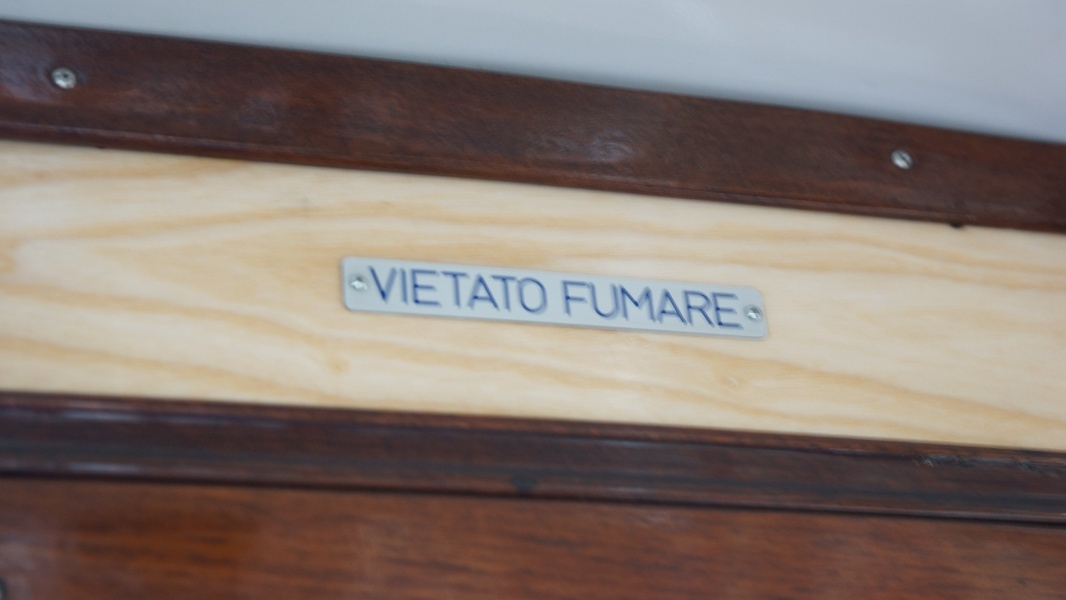text: (561, 279, 576, 331), (577, 279, 592, 331), (593, 279, 608, 331), (609, 279, 624, 331), (625, 279, 640, 331), (641, 279, 656, 331), (657, 279, 672, 331), (673, 279, 688, 331), (689, 279, 704, 331), (705, 279, 720, 331), (721, 279, 736, 331), (369, 265, 384, 316), (385, 265, 400, 316), (401, 265, 416, 316), (417, 265, 432, 316), (433, 265, 448, 316), (449, 265, 464, 316), (465, 265, 480, 316), (481, 265, 496, 316), (497, 265, 512, 316), (513, 265, 528, 316), (529, 265, 544, 316), (737, 279, 744, 331), (545, 265, 551, 316), (365, 265, 368, 316)
